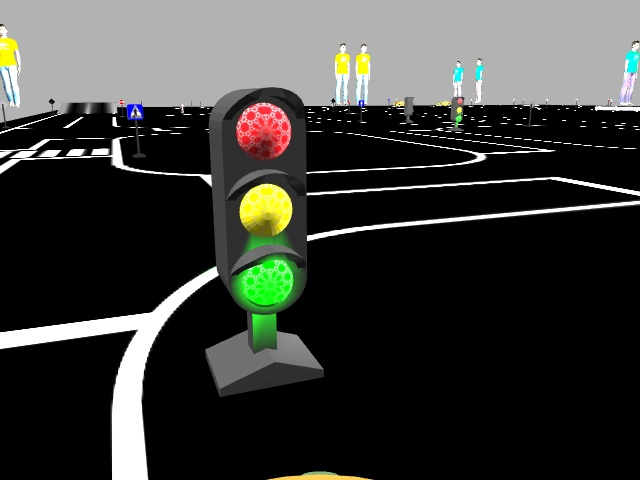Crosswalk: (127, 103, 142, 119)
TrafficLight: (213, 86, 308, 309)
